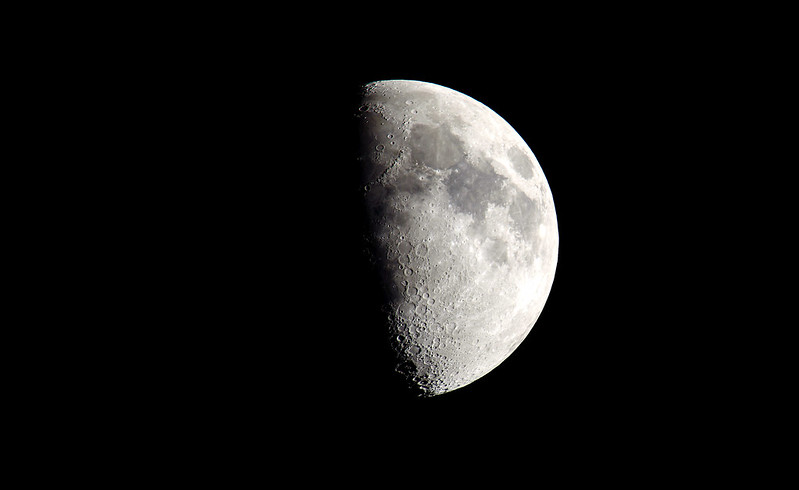crater: (532, 214, 552, 244), (358, 99, 382, 120), (405, 343, 427, 362), (413, 241, 432, 263), (488, 256, 503, 278), (400, 94, 420, 108), (374, 140, 387, 158), (415, 172, 431, 186), (410, 106, 424, 118), (424, 197, 438, 208), (385, 129, 397, 141), (421, 290, 431, 301), (435, 183, 444, 194)
